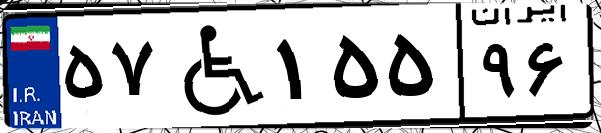1: (270, 28, 330, 110)
5: (385, 28, 445, 110), (330, 28, 385, 110), (57, 26, 110, 100)
6: (525, 38, 570, 115)
7: (110, 28, 158, 98)
9: (475, 38, 525, 113)
ژ (معلولین و جانبازان): (158, 12, 270, 120)
